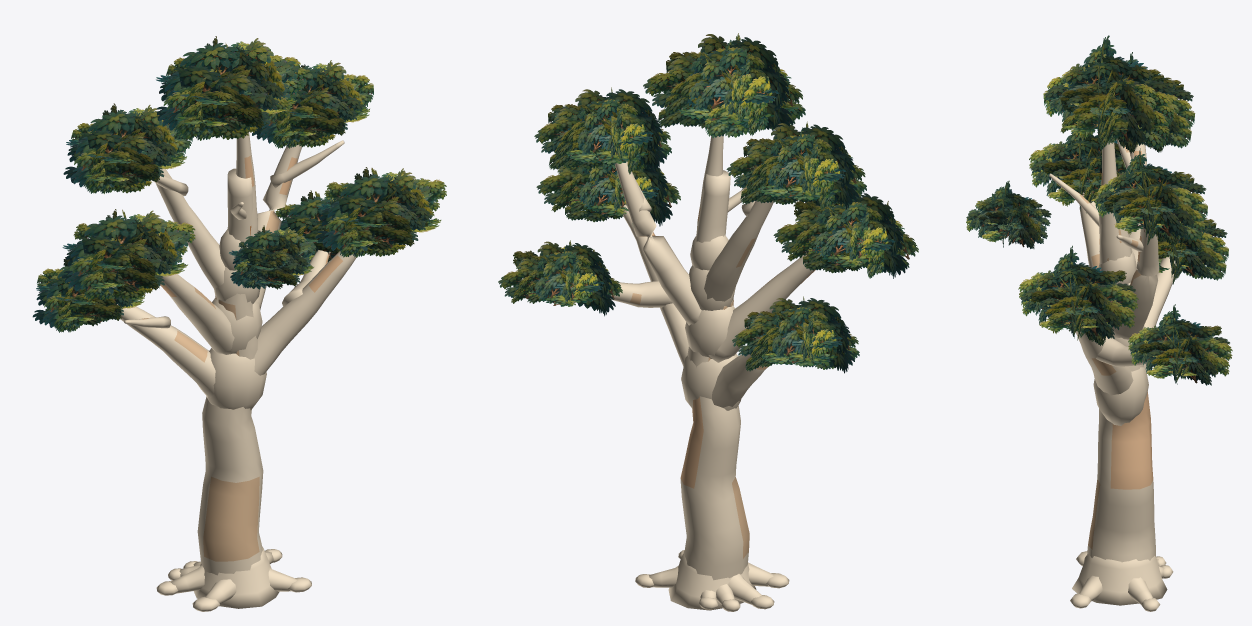
Rendered from TREE_EUCALYPTUS_001_v008_LOD_CLOSE.glb.
3 renders of one model, left to right at view 1: azimuth 30°, elevation 25°; view 2: azimuth 150°, elevation 25°; view 3: azimuth 270°, elevation 25°, orthographic. The views are drawn at different scales.
Visible parts, largest first — view 1: TREE_EUCALYPTUS_001_CLOSE_AUTHORED_FOLIAGE_ISLANDS, TREE_EUCALYPTUS_001_CLOSE_MAIN_TRUNK, TREE_EUCALYPTUS_001_CLOSE_MID_RIGHT_SWEEP, TREE_EUCALYPTUS_001_CLOSE_LOWER_LEFT_SWEEP, TREE_EUCALYPTUS_001_CLOSE_MID_LEFT_ARCH, TREE_EUCALYPTUS_001_CLOSE_SCULPTED_FORK_SWELL_0, TREE_EUCALYPTUS_001_CLOSE_UPPER_LEFT_FORK, TREE_EUCALYPTUS_001_CLOSE_SCULPTED_ROOT_COLLAR, TREE_EUCALYPTUS_001_CLOSE_UPPER_RIGHT_ARCH, TREE_EUCALYPTUS_001_CLOSE_SCULPTED_FORK_SWELL_1, TREE_EUCALYPTUS_001_CLOSE_CENTRAL_CROWN_FORK, TREE_EUCALYPTUS_001_CLOSE_RIGHT_TOP_SUPPORT (+2 smaller); view 2: TREE_EUCALYPTUS_001_CLOSE_AUTHORED_FOLIAGE_ISLANDS, TREE_EUCALYPTUS_001_CLOSE_MAIN_TRUNK, TREE_EUCALYPTUS_001_CLOSE_UPPER_RIGHT_ARCH, TREE_EUCALYPTUS_001_CLOSE_UPPER_LEFT_FORK, TREE_EUCALYPTUS_001_CLOSE_MID_LEFT_ARCH, TREE_EUCALYPTUS_001_CLOSE_SCULPTED_ROOT_COLLAR, TREE_EUCALYPTUS_001_CLOSE_SCULPTED_FORK_SWELL_1, TREE_EUCALYPTUS_001_CLOSE_LOWER_LEFT_SWEEP, TREE_EUCALYPTUS_001_CLOSE_SCULPTED_FORK_SWELL_0, TREE_EUCALYPTUS_001_CLOSE_MID_RIGHT_SWEEP, TREE_EUCALYPTUS_001_CLOSE_LOWER_RIGHT_REACH, TREE_EUCALYPTUS_001_CLOSE_SCULPTED_FORK_SWELL_3 (+2 smaller); view 3: TREE_EUCALYPTUS_001_CLOSE_AUTHORED_FOLIAGE_ISLANDS, TREE_EUCALYPTUS_001_CLOSE_MAIN_TRUNK, TREE_EUCALYPTUS_001_CLOSE_SCULPTED_ROOT_COLLAR, TREE_EUCALYPTUS_001_CLOSE_UPPER_RIGHT_ARCH, TREE_EUCALYPTUS_001_CLOSE_SCULPTED_FORK_SWELL_0, TREE_EUCALYPTUS_001_CLOSE_MID_RIGHT_SWEEP, TREE_EUCALYPTUS_001_CLOSE_CENTRAL_CROWN_FORK, TREE_EUCALYPTUS_001_CLOSE_LOWER_LEFT_SWEEP, TREE_EUCALYPTUS_001_CLOSE_LOWER_RIGHT_REACH, TREE_EUCALYPTUS_001_CLOSE_MID_LEFT_ARCH, TREE_EUCALYPTUS_001_CLOSE_SCULPTED_FORK_SWELL_3, TREE_EUCALYPTUS_001_CLOSE_CENTRE_BACK_SUPPORT (+2 smaller).
Boxes of the visible parts, x1,y1,x2,y2 form: TREE_EUCALYPTUS_001_CLOSE_AUTHORED_FOLIAGE_ISLANDS: (32,36,446,332); TREE_EUCALYPTUS_001_CLOSE_MAIN_TRUNK: (197,168,263,575); TREE_EUCALYPTUS_001_CLOSE_MID_RIGHT_SWEEP: (254,251,356,375); TREE_EUCALYPTUS_001_CLOSE_LOWER_LEFT_SWEEP: (117,304,215,398); TREE_EUCALYPTUS_001_CLOSE_MID_LEFT_ARCH: (160,274,236,354); TREE_EUCALYPTUS_001_CLOSE_SCULPTED_FORK_SWELL_0: (206,348,266,410); TREE_EUCALYPTUS_001_CLOSE_UPPER_LEFT_FORK: (155,168,225,290); TREE_EUCALYPTUS_001_CLOSE_SCULPTED_ROOT_COLLAR: (193,546,279,608); TREE_EUCALYPTUS_001_CLOSE_UPPER_RIGHT_ARCH: (256,144,301,309); TREE_EUCALYPTUS_001_CLOSE_SCULPTED_FORK_SWELL_1: (212,298,262,352); TREE_EUCALYPTUS_001_CLOSE_CENTRAL_CROWN_FORK: (235,132,257,239); TREE_EUCALYPTUS_001_CLOSE_RIGHT_TOP_SUPPORT: (270,140,344,188); TREE_EUCALYPTUS_001_CLOSE_AUTHORED_FOLIAGE_ISLANDS: (498,33,918,373); TREE_EUCALYPTUS_001_CLOSE_MAIN_TRUNK: (680,170,749,580); TREE_EUCALYPTUS_001_CLOSE_UPPER_RIGHT_ARCH: (611,146,701,325); TREE_EUCALYPTUS_001_CLOSE_UPPER_LEFT_FORK: (704,200,773,301); TREE_EUCALYPTUS_001_CLOSE_MID_LEFT_ARCH: (708,253,820,362); TREE_EUCALYPTUS_001_CLOSE_SCULPTED_ROOT_COLLAR: (668,551,756,610); TREE_EUCALYPTUS_001_CLOSE_SCULPTED_FORK_SWELL_1: (685,305,734,358); TREE_EUCALYPTUS_001_CLOSE_LOWER_LEFT_SWEEP: (712,354,767,407); TREE_EUCALYPTUS_001_CLOSE_SCULPTED_FORK_SWELL_0: (681,354,741,410); TREE_EUCALYPTUS_001_CLOSE_MID_RIGHT_SWEEP: (615,200,688,366); TREE_EUCALYPTUS_001_CLOSE_LOWER_RIGHT_REACH: (610,281,672,307); TREE_EUCALYPTUS_001_CLOSE_SCULPTED_FORK_SWELL_3: (690,235,728,270); TREE_EUCALYPTUS_001_CLOSE_AUTHORED_FOLIAGE_ISLANDS: (966,35,1232,385); TREE_EUCALYPTUS_001_CLOSE_MAIN_TRUNK: (1087,194,1155,562); TREE_EUCALYPTUS_001_CLOSE_SCULPTED_ROOT_COLLAR: (1072,554,1167,605); TREE_EUCALYPTUS_001_CLOSE_UPPER_RIGHT_ARCH: (1112,227,1159,339); TREE_EUCALYPTUS_001_CLOSE_SCULPTED_FORK_SWELL_0: (1093,364,1148,425); TREE_EUCALYPTUS_001_CLOSE_MID_RIGHT_SWEEP: (1075,331,1133,395); TREE_EUCALYPTUS_001_CLOSE_CENTRAL_CROWN_FORK: (1099,141,1122,264); TREE_EUCALYPTUS_001_CLOSE_LOWER_LEFT_SWEEP: (1144,256,1178,367); TREE_EUCALYPTUS_001_CLOSE_LOWER_RIGHT_REACH: (1096,336,1156,366); TREE_EUCALYPTUS_001_CLOSE_MID_LEFT_ARCH: (1079,192,1099,268); TREE_EUCALYPTUS_001_CLOSE_SCULPTED_FORK_SWELL_3: (1098,250,1136,284); TREE_EUCALYPTUS_001_CLOSE_CENTRE_BACK_SUPPORT: (1049,173,1099,226).
Size of the model in its own units: 10.07 by 13.98 by 6.57.
5 materials, 1 textured.
